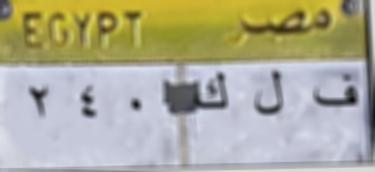0: (128, 90, 144, 118)
2: (29, 82, 52, 122)
4: (76, 83, 102, 120)
faa: (310, 72, 363, 112)
kaaf: (192, 68, 231, 116)
laam: (248, 66, 288, 117)
